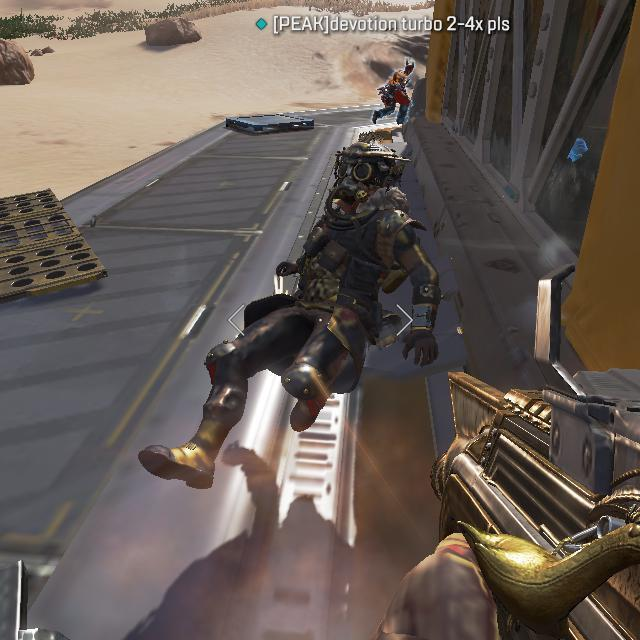avatar: (134, 133, 443, 494), (369, 57, 417, 128)
